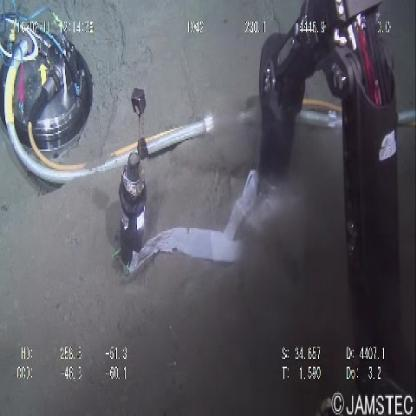Rov: (258, 1, 402, 256), (2, 2, 98, 197), (113, 79, 160, 280)
Rác: (147, 165, 311, 274)
